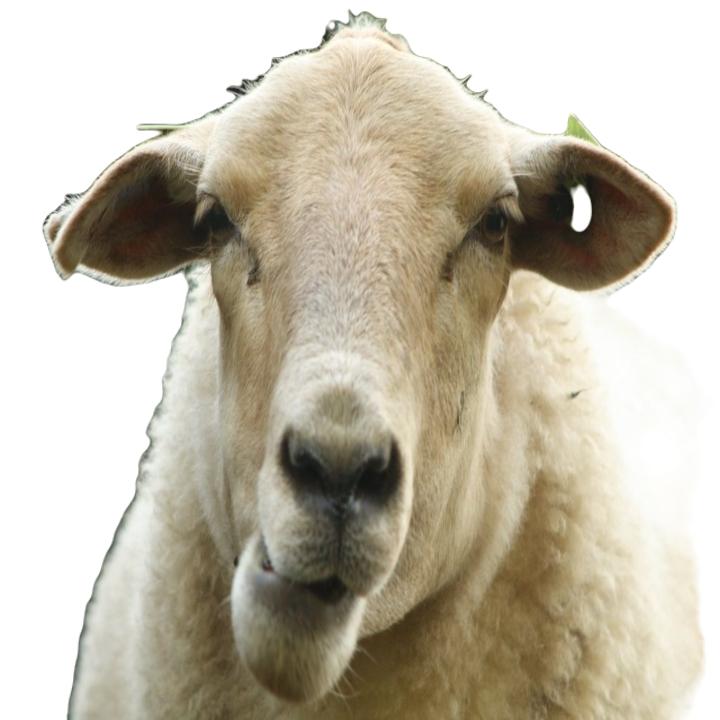Sheep: (41, 4, 698, 719)
